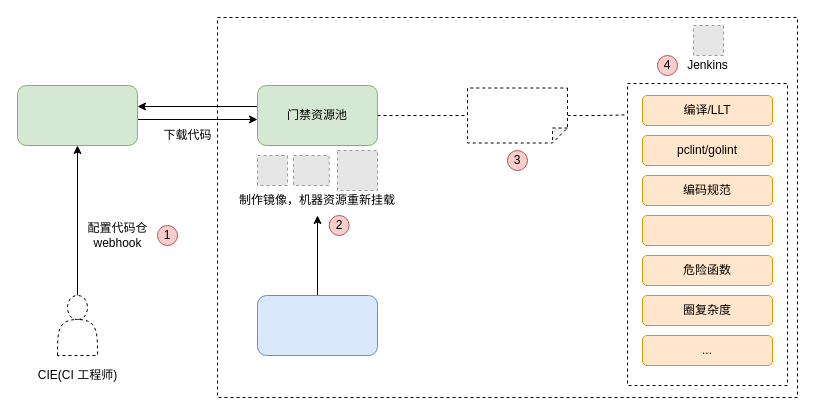
This 815x415 diagram has some shape labels left out. Grey dashed boxes stand in for pictures. The shapes that lost their labels are listed below. From the top down, each one's centre as x and y in pixels, then its label:
point (77, 115): GitLab 代码仓
point (517, 115): 配置脚本 阈值设置
point (707, 230): 冗余代码
point (317, 325): BMC 统一镜像， 集成门禁检查工具
